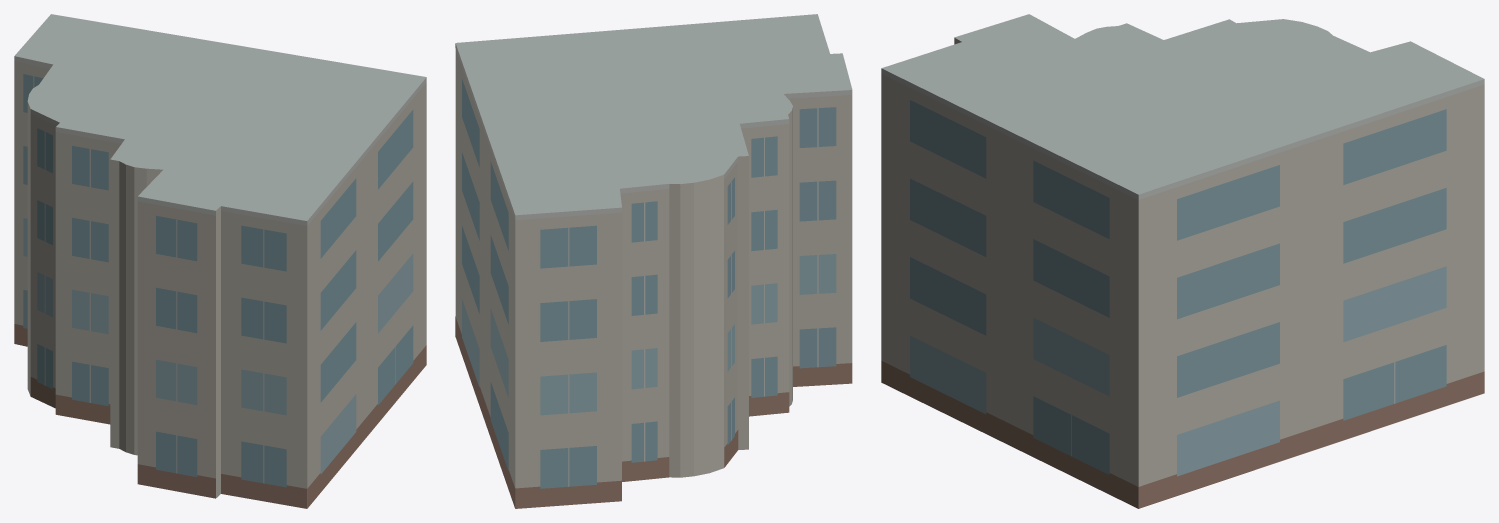
Rendered from survey-upis-32670900.glb.
3 views of the same model, side by side, from view 1: azimuth 30°, elevation 25°; view 2: azimuth 150°, elevation 25°; view 3: azimuth 270°, elevation 25° (orthographic). The views are drawn at different scales.
Parts seen in each view (by area): view 1: survey-upis-32670900.tmp; view 2: survey-upis-32670900.tmp; view 3: survey-upis-32670900.tmp.
Boxes of the visible parts, left/top/right/bottom form: survey-upis-32670900.tmp: left=14, top=14, right=426, bottom=508; survey-upis-32670900.tmp: left=455, top=14, right=852, bottom=508; survey-upis-32670900.tmp: left=881, top=14, right=1484, bottom=508.
Bounding box in the file's own units: 17.76 × 14.4 × 25.06.
